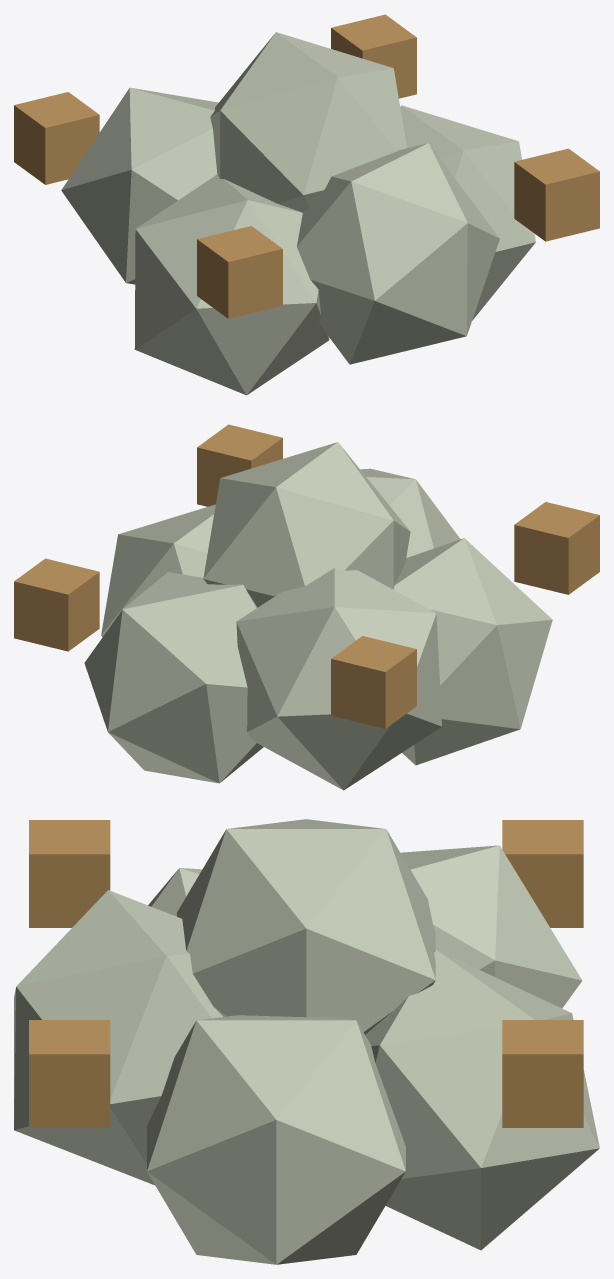
File: pop.glb
The picture shows the model from 3 angles, top to bottom: view 1: azimuth 30°, elevation 25°; view 2: azimuth 150°, elevation 25°; view 3: azimuth 270°, elevation 25°; orthographic projection. The views are drawn at different scales.
Parts seen in each view (by area): view 1: P1, P2, P5, P3, P0, S3, S2, S1, S0; view 2: P3, P4, P5, P2, P0, S0, S1, S2, S3, P1; view 3: P0, P5, P4, P1, P3, S0, S3, S2, S1, P2.
Part boxes in pixels (box(x1,y1,x2,y2)): P1: box(297, 143, 499, 364); P2: box(134, 174, 329, 395); P5: box(210, 32, 406, 212); P3: box(61, 87, 218, 284); P0: box(400, 105, 535, 320); S3: box(514, 148, 599, 241); S2: box(197, 226, 282, 318); S1: box(14, 92, 99, 184); S0: box(331, 14, 416, 98); P3: box(236, 568, 441, 790); P4: box(84, 572, 263, 783); P5: box(203, 442, 410, 607); P2: box(393, 538, 552, 765); P0: box(101, 504, 215, 636); S0: box(14, 558, 99, 651); S1: box(331, 636, 416, 728); S2: box(514, 502, 599, 594); S3: box(197, 424, 282, 506); P1: box(360, 468, 460, 557); P0: box(147, 1015, 405, 1264); P5: box(177, 819, 435, 1034); P4: box(365, 949, 599, 1250); P1: box(14, 890, 223, 1185); P3: box(400, 845, 582, 1008); S0: box(502, 1020, 583, 1127); S3: box(29, 1020, 110, 1127); S2: box(29, 820, 110, 927); S1: box(502, 820, 583, 927); P2: box(148, 868, 202, 916).
Size of the model in its own units: 0.5789 by 0.3986 by 0.5777.
